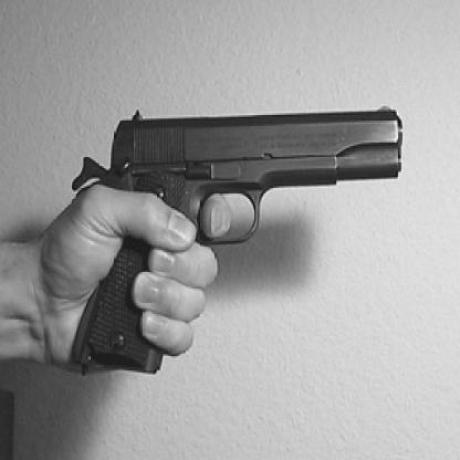1: (0, 186, 220, 370)
weapon: (61, 95, 405, 386)
